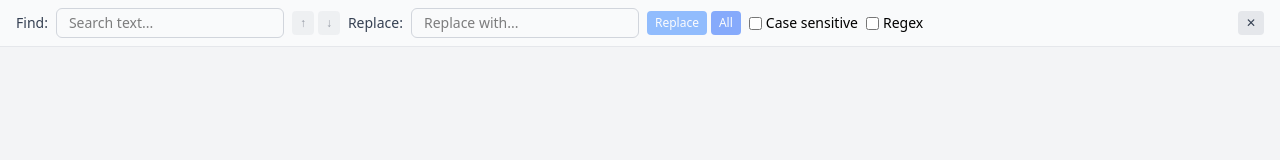
FindReplace › enables buttons when find text is provided
In the field with id "find-input": (170, 23) [56,8,284,38], type "search text"
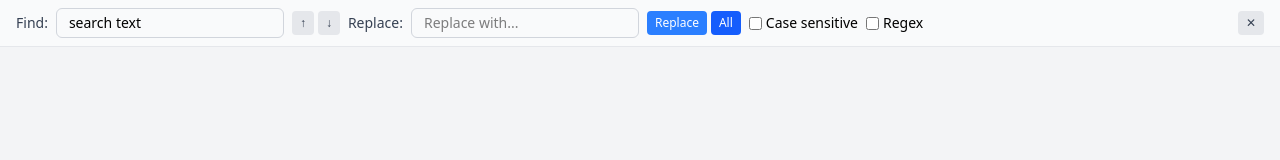
Check: the button "↓" is enabled, box [318,11,340,35]
Check: the button "Replace" is enabled, box [647,11,707,35]
Check: the button "All" is enabled, box [711,11,741,35]
